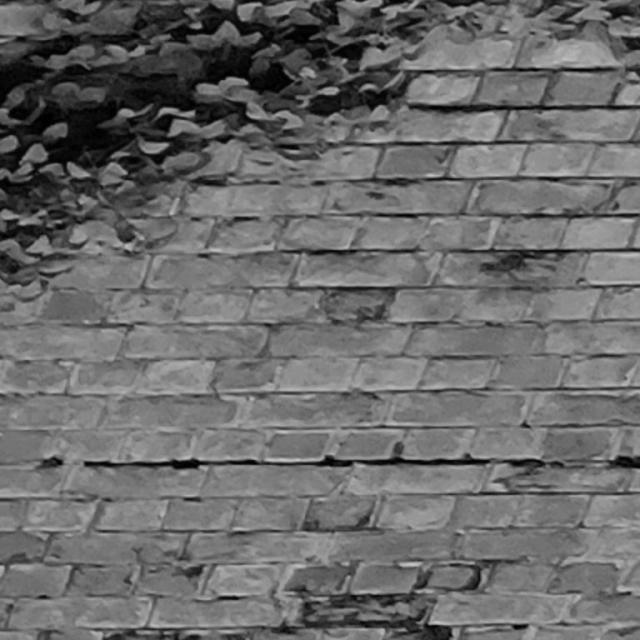crack: (35, 451, 640, 470)
